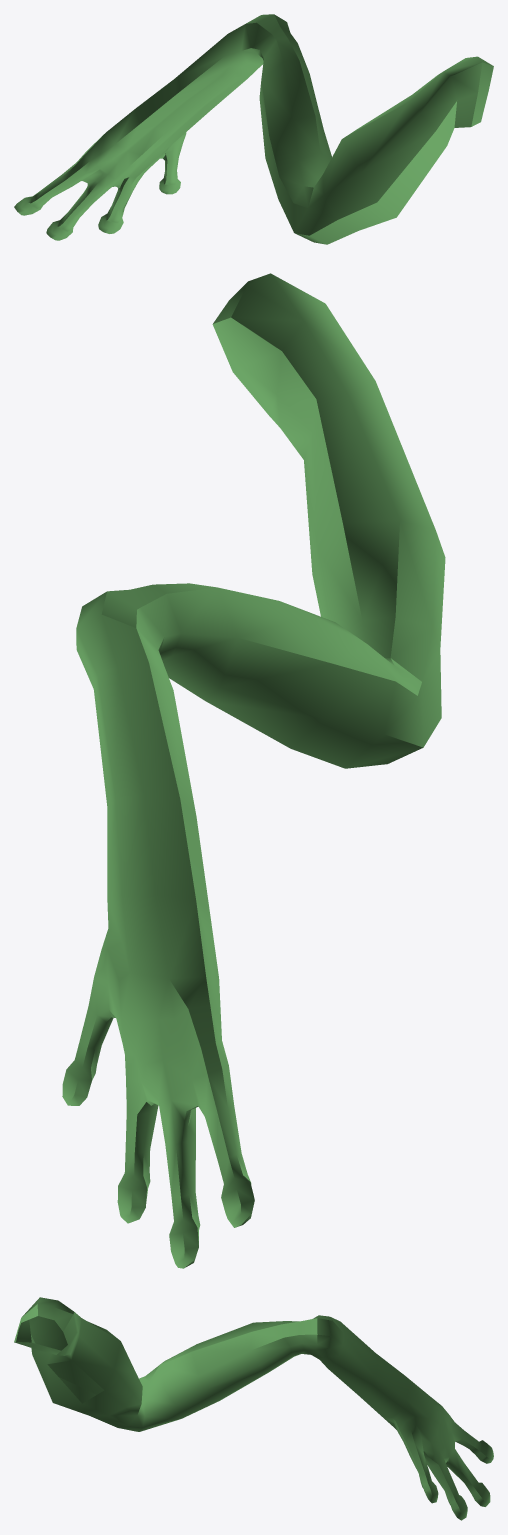
Rendered from rana_pde.obj.
3 views of the same model, one above another, from view 1: azimuth 30°, elevation 25°; view 2: azimuth 150°, elevation 25°; view 3: azimuth 270°, elevation 25° (orthographic). The views are drawn at different scales.
Visible parts, largest first — view 1: pataDa; view 2: pataDa; view 3: pataDa.
Part boxes in pixels (x1,y1,x2,y2): pataDa: (14, 14, 493, 244); pataDa: (62, 273, 445, 1268); pataDa: (14, 1297, 493, 1520).
Size of the model in its own units: 18.27 by 21.63 by 32.45.
